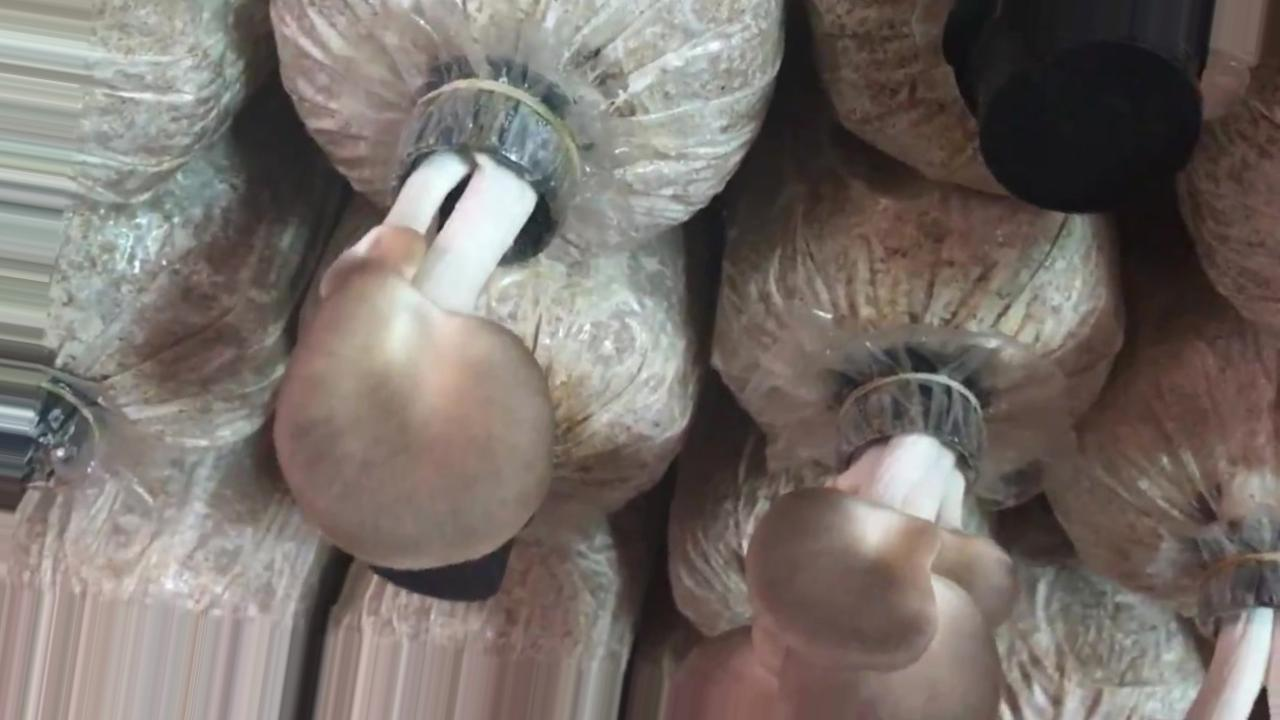nam: (272, 91, 584, 568), (671, 377, 1022, 720)
